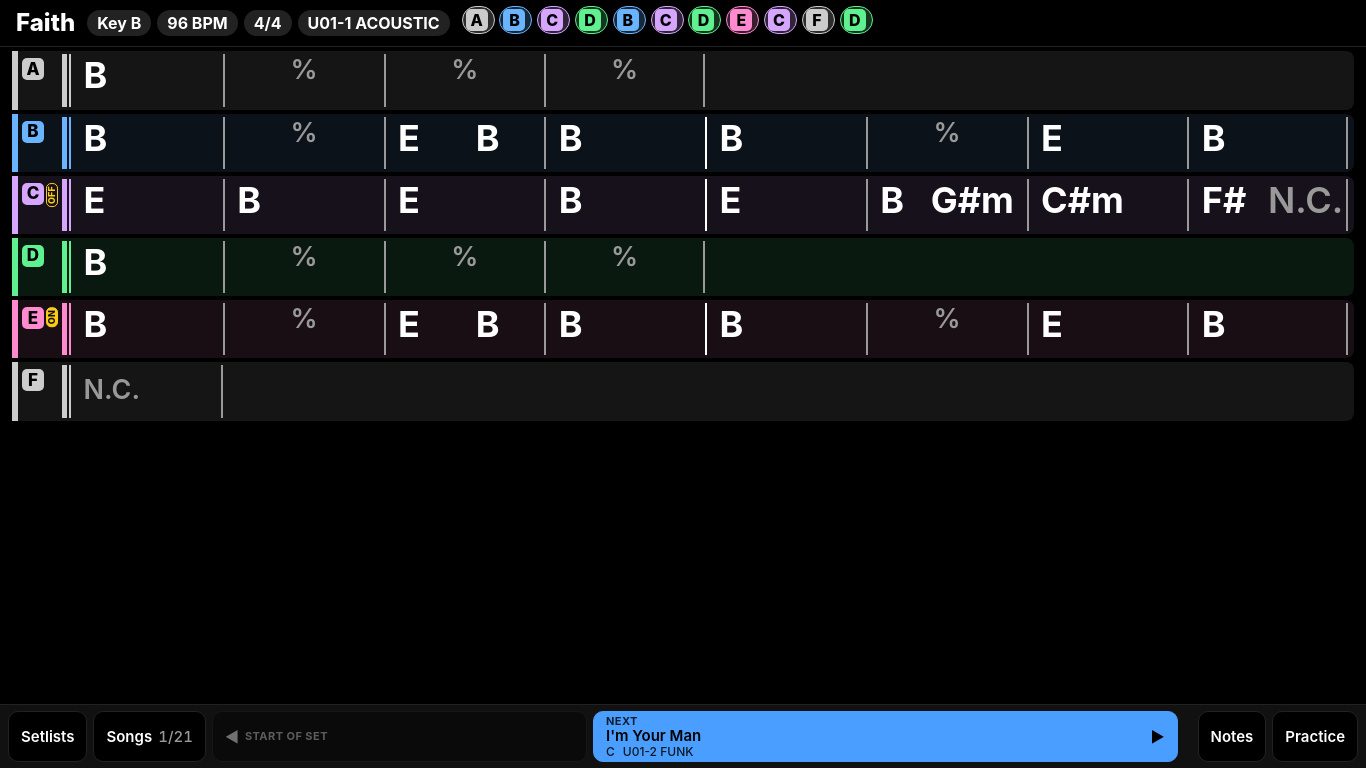
Test: the pedal and arrow keys close an open sheet › on Stage: Notes is open, the pedal turns to the next song and the sheet is gone
The width and height of the screenshot is (1366, 768).
Check: the navigation bar named "Song controls" is shown, box left=0, top=704, right=1365, bottom=767
Click the button "Notes" at (1232, 736), box left=1198, top=711, right=1266, bottom=762
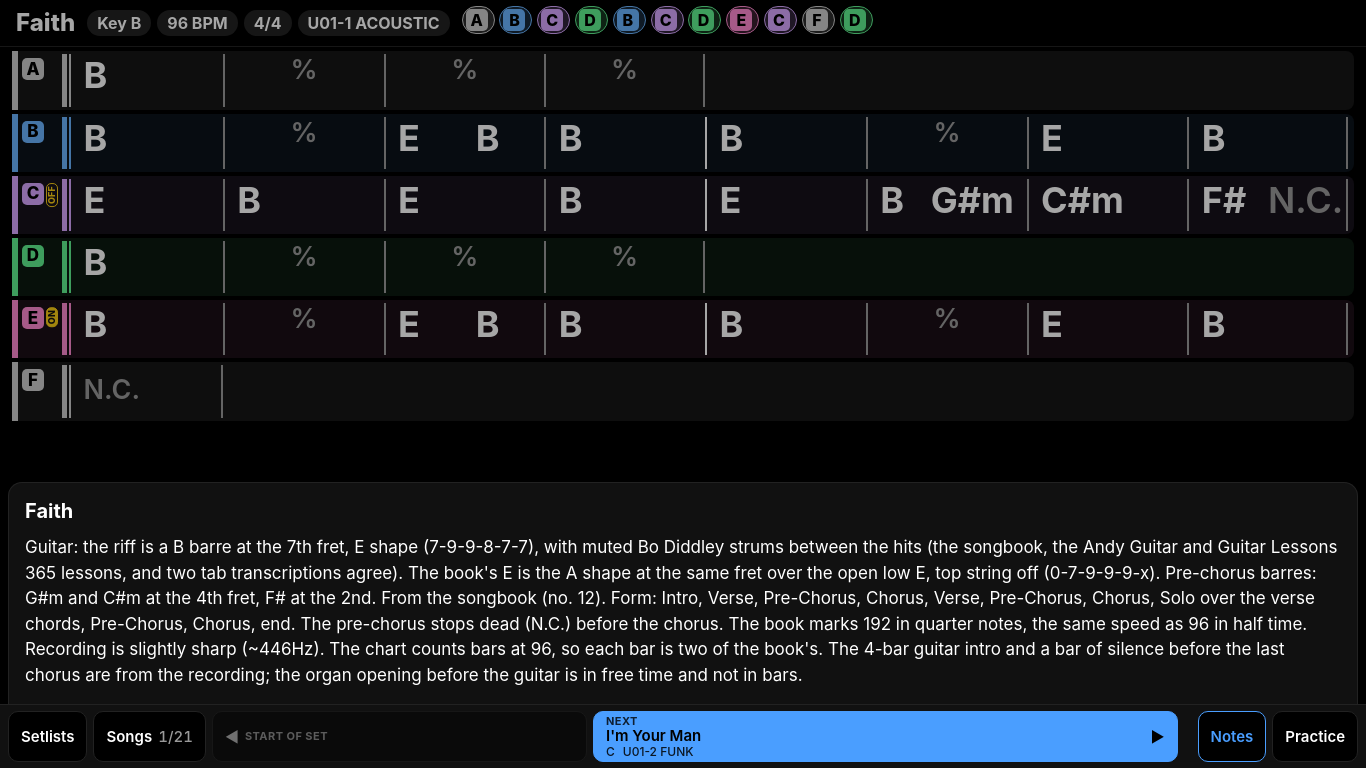
Check: the dialog named "Notes" is shown, box left=8, top=482, right=1358, bottom=704
Press PageDown
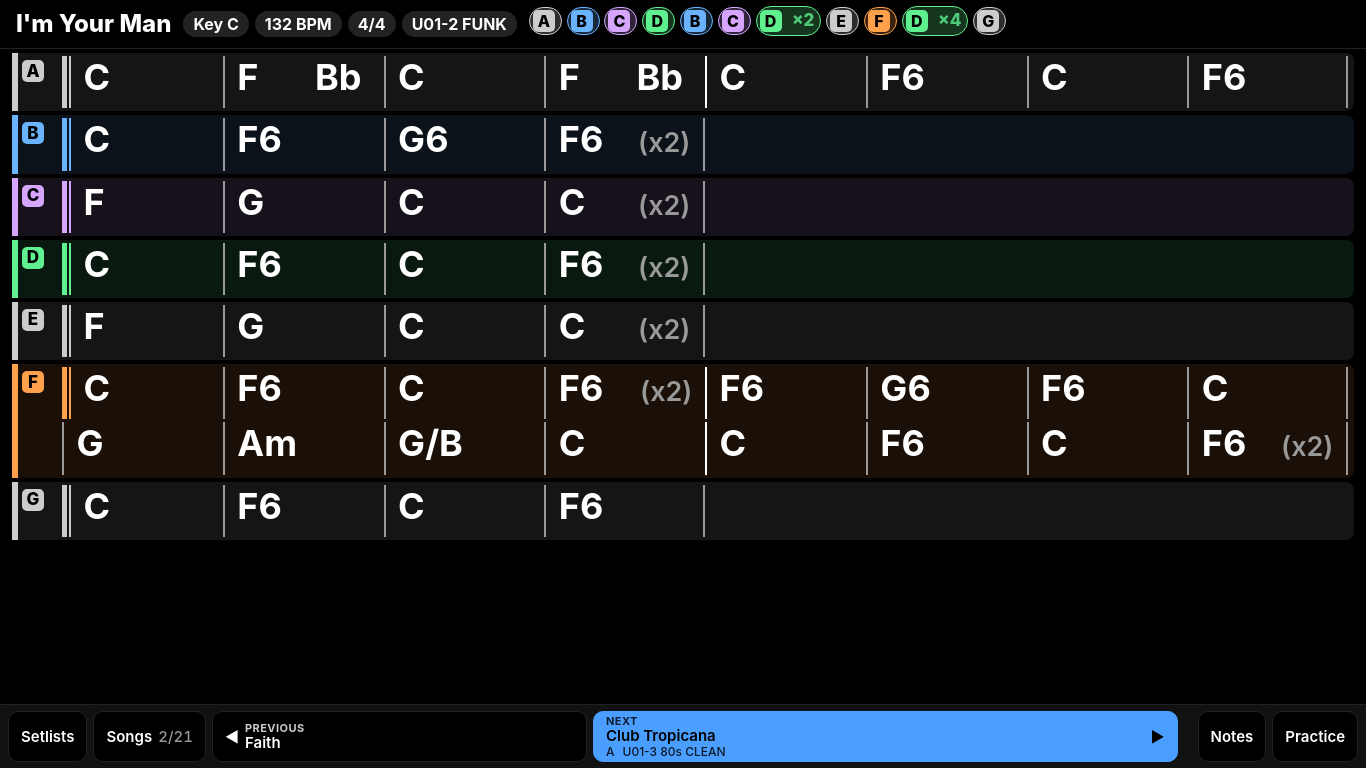
Check: the button "Notes" is collapsed, box left=1198, top=711, right=1266, bottom=762
